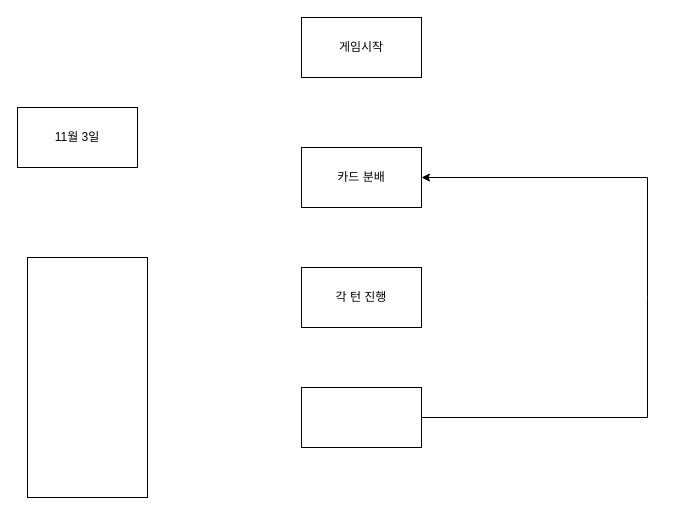
This 673x515 diagram has some shape labels left out. Here are the shapes that lost their labels. From the top down, the centre of each, then its label:
the point at 87,377: 카드 뒷면이냐 앞면이냐?
the point at 361,417: 점수 결산
